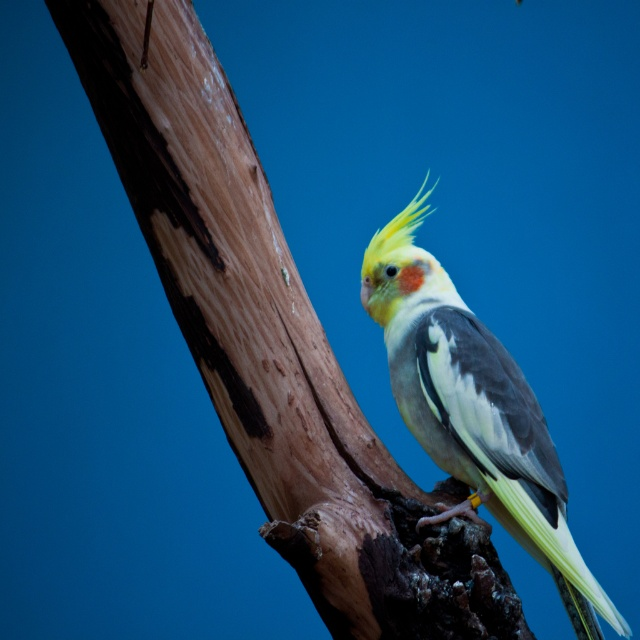Parrot: (359, 166, 636, 640)
